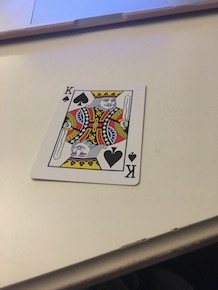KingOfSpades: (28, 77, 153, 189)
